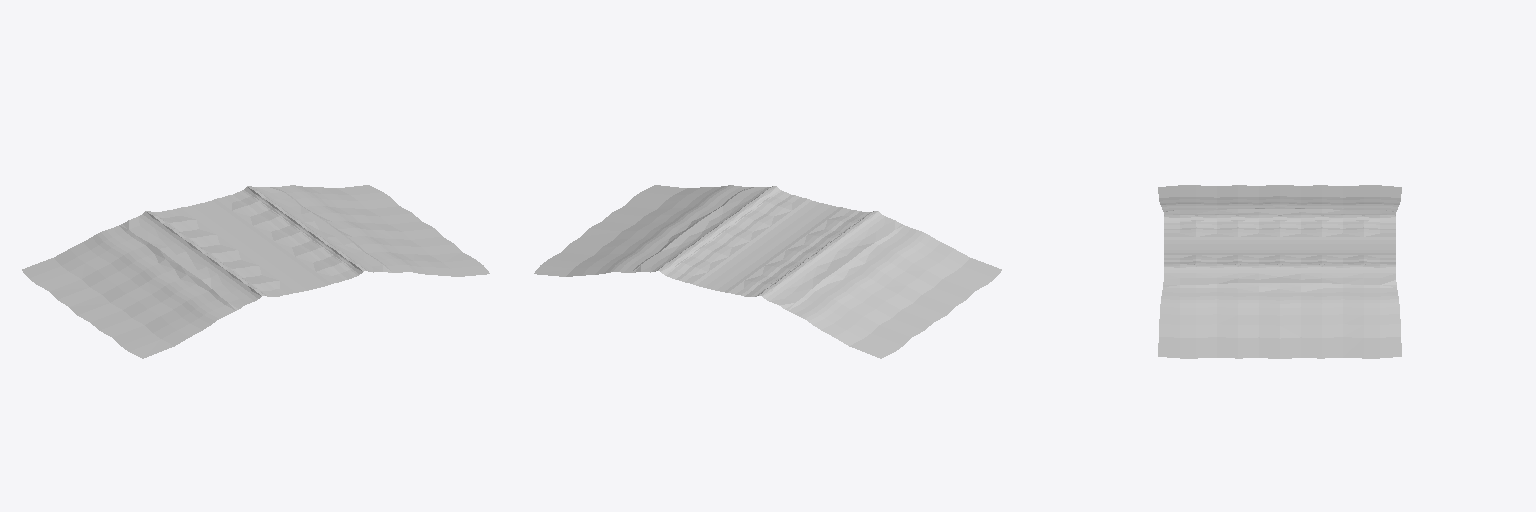
File: trackSnow.obj
3 views of the same model, side by side, from view 1: azimuth 30°, elevation 25°; view 2: azimuth 150°, elevation 25°; view 3: azimuth 270°, elevation 25° (orthographic).
Visible parts, largest first — view 1: Cube.002_Cube.002_Cube.002_Cube.006; view 2: Cube.002_Cube.002_Cube.002_Cube.006; view 3: Cube.002_Cube.002_Cube.002_Cube.006.
Part boxes in pixels (left/top/right/bottom): Cube.002_Cube.002_Cube.002_Cube.006: left=22, top=185, right=489, bottom=358; Cube.002_Cube.002_Cube.002_Cube.006: left=534, top=185, right=1001, bottom=358; Cube.002_Cube.002_Cube.002_Cube.006: left=1158, top=185, right=1401, bottom=358.
Size of the model in its own units: 24.88 by 2.12 by 14.67.